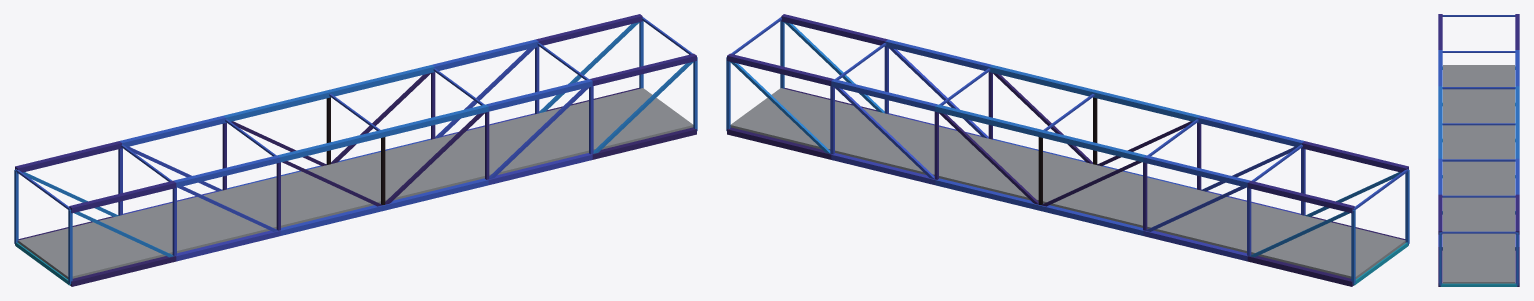
File: 20_2.25_6_HEA240.glb
3 renders of one model, left to right at view 1: azimuth 30°, elevation 25°; view 2: azimuth 150°, elevation 25°; view 3: azimuth 270°, elevation 25°, orthographic. The views are drawn at different scales.
Size of the model in its own units: 20.09 by 2.41 by 3.16.
